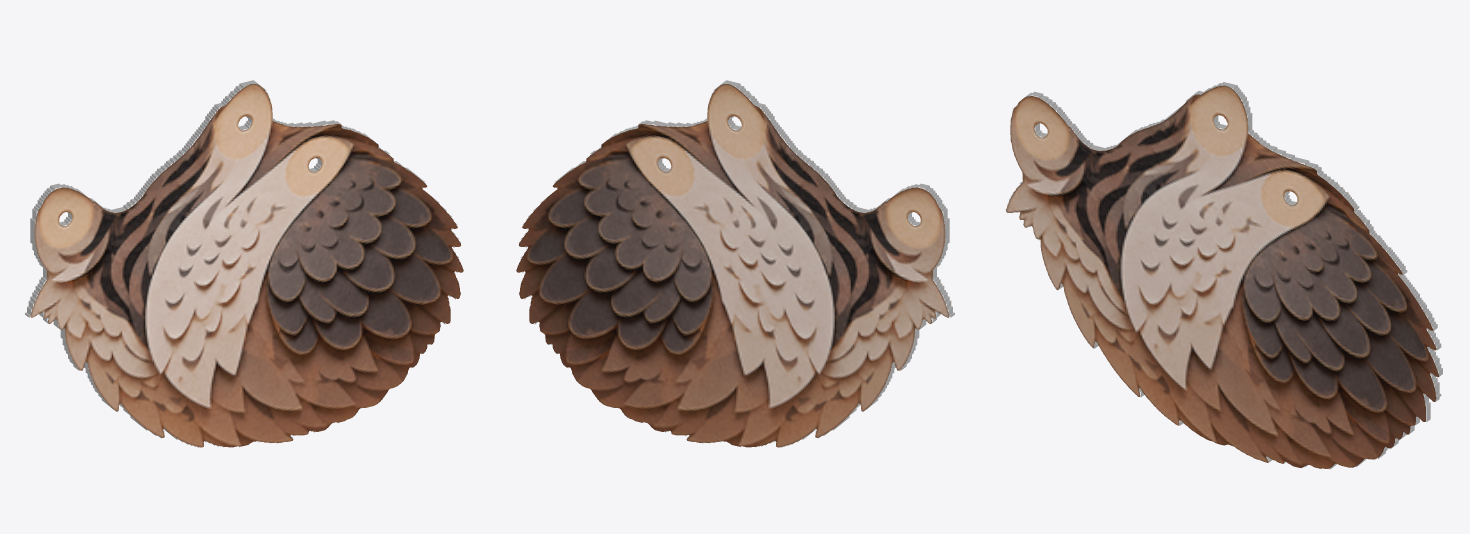
Rendered from TorsoMain.glb.
3 renders of one model, left to right at view 1: azimuth 30°, elevation 25°; view 2: azimuth 150°, elevation 25°; view 3: azimuth 330°, elevation 25°, orthographic.
Parts seen in each view (by area): view 1: PaperVolume; view 2: PaperVolume; view 3: PaperVolume.
Part boxes in pixels (<box>): PaperVolume: <box>25,80,463,447</box>; PaperVolume: <box>516,80,954,447</box>; PaperVolume: <box>1005,82,1442,469</box>.
Bounding box in the file's own units: 4.74 × 3.88 × 0.08.
Materials: 3 (2 with a texture image).
